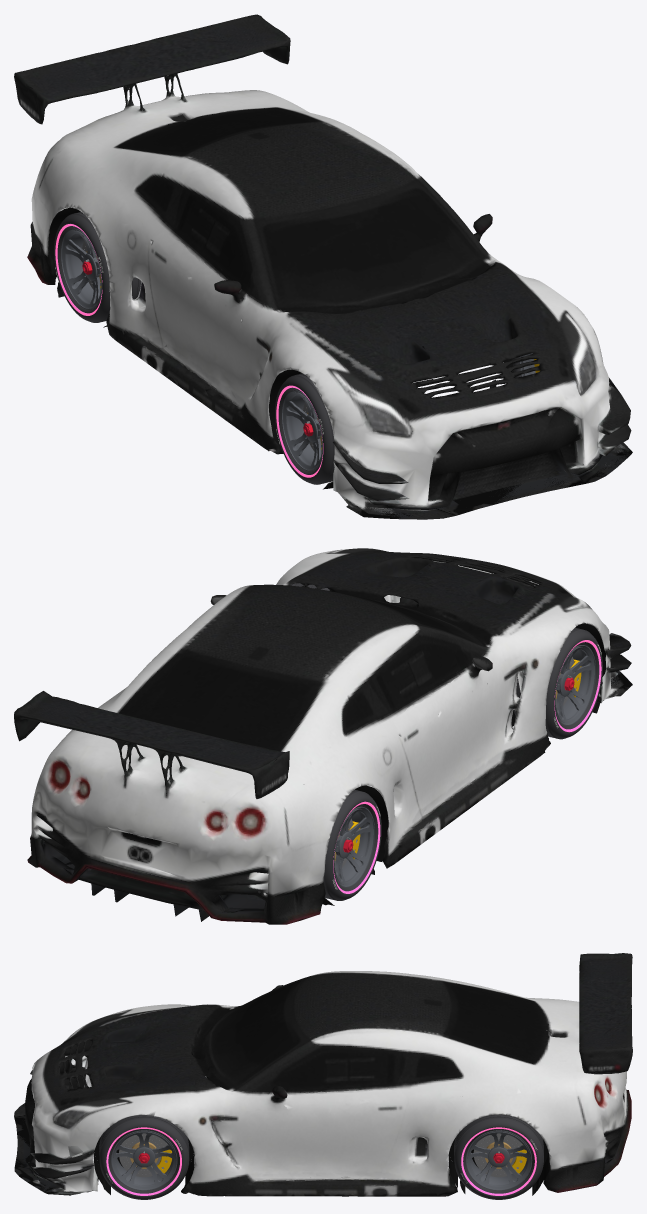
Rendered from nissan_gtr_full.glb.
The picture shows the model from 3 angles, top to bottom: view 1: azimuth 30°, elevation 25°; view 2: azimuth 150°, elevation 25°; view 3: azimuth 270°, elevation 25°; orthographic projection. The views are drawn at different scales.
Parts seen in each view (by area): view 1: NissanGTR_Body, FL_GT3_TireRubber, FL_GT3_AlloyRim, RL_GT3_AlloyRim, RL_GT3_TireRubber; view 2: NissanGTR_Body, RL_GT3_AlloyRim, FL_GT3_AlloyRim, FL_GT3_TireRubber, RL_GT3_TireRubber; view 3: NissanGTR_Body, RR_GT3_TireRubber, FR_GT3_TireRubber, FR_GT3_AlloyRim, RR_GT3_AlloyRim, RR_GT3_BrakeDisc, FR_GT3_BrakeDisc, FR_GT3_SidewallStripe, RR_GT3_SidewallStripe.
Boxes of the visible parts, box(x1,y1,x2,y2) form: NissanGTR_Body: box(14, 14, 632, 519); FL_GT3_TireRubber: box(275, 373, 334, 484); FL_GT3_AlloyRim: box(281, 390, 322, 471); RL_GT3_AlloyRim: box(61, 228, 101, 309); RL_GT3_TireRubber: box(54, 212, 141, 322); NissanGTR_Body: box(14, 548, 632, 924); RL_GT3_AlloyRim: box(333, 806, 374, 887); FL_GT3_AlloyRim: box(554, 645, 595, 725); FL_GT3_TireRubber: box(514, 627, 602, 739); RL_GT3_TireRubber: box(323, 789, 381, 900); NissanGTR_Body: box(14, 953, 632, 1196); RR_GT3_TireRubber: box(454, 1114, 543, 1199); FR_GT3_TireRubber: box(99, 1115, 189, 1199); FR_GT3_AlloyRim: box(111, 1130, 177, 1190); RR_GT3_AlloyRim: box(466, 1130, 532, 1190); RR_GT3_BrakeDisc: box(473, 1133, 522, 1177); FR_GT3_BrakeDisc: box(119, 1133, 167, 1177); FR_GT3_SidewallStripe: box(106, 1127, 181, 1195); RR_GT3_SidewallStripe: box(461, 1127, 536, 1195).
Size of the model in its own units: 1.9 by 1.22 by 4.53.
11 materials, 1 textured.
